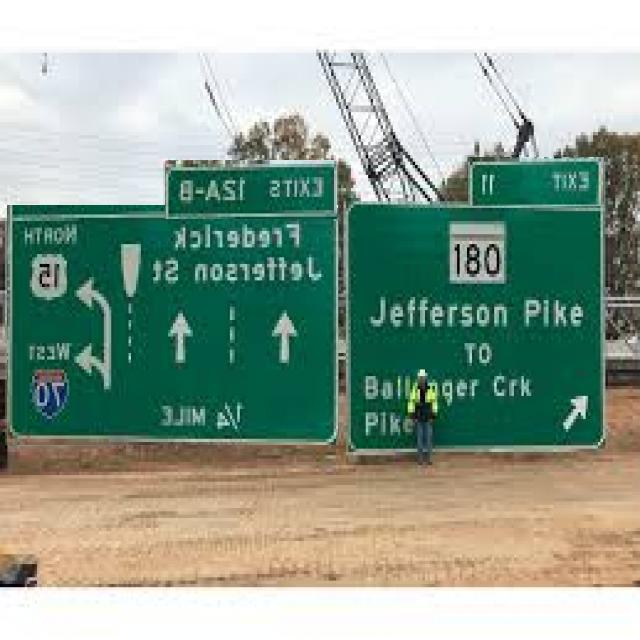street-signs: (8, 205, 338, 445), (345, 200, 606, 452), (165, 161, 337, 219), (469, 157, 604, 206)
